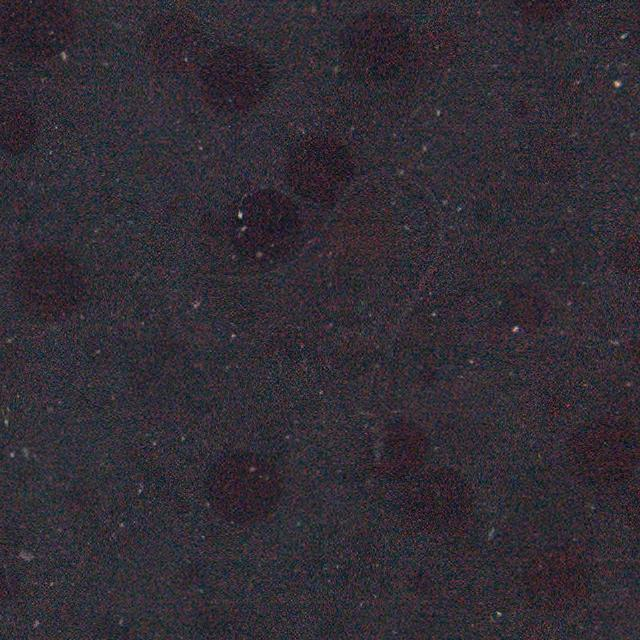eel: (202, 166, 446, 462)
